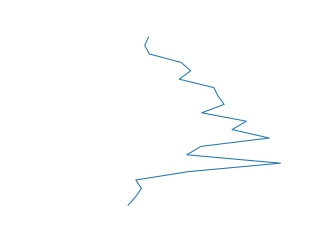floodSwamp: (122, 36, 284, 206)
